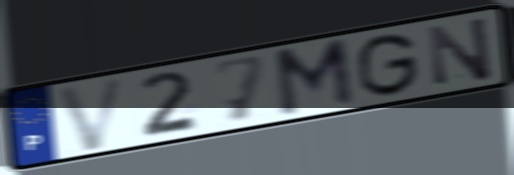2: (142, 68, 202, 141)
7: (211, 52, 270, 127)
G: (356, 30, 422, 99)
M: (270, 35, 359, 121)
N: (425, 13, 496, 88)
V: (53, 73, 131, 154)
